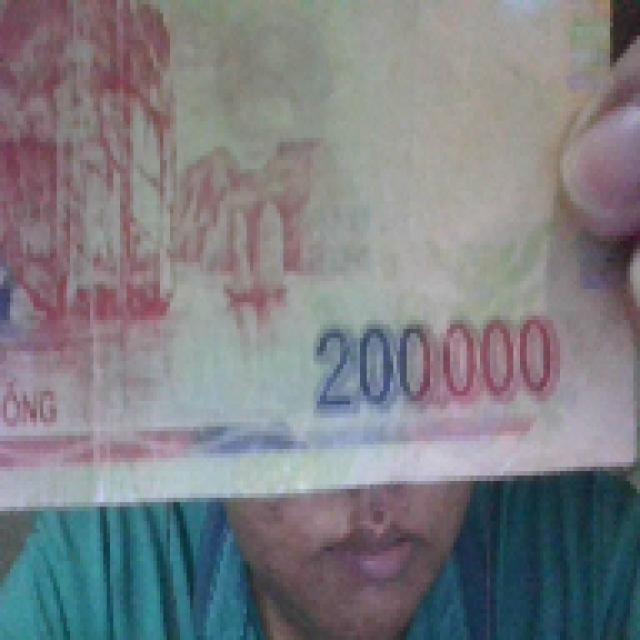200 000 VND: (2, 0, 638, 511)
